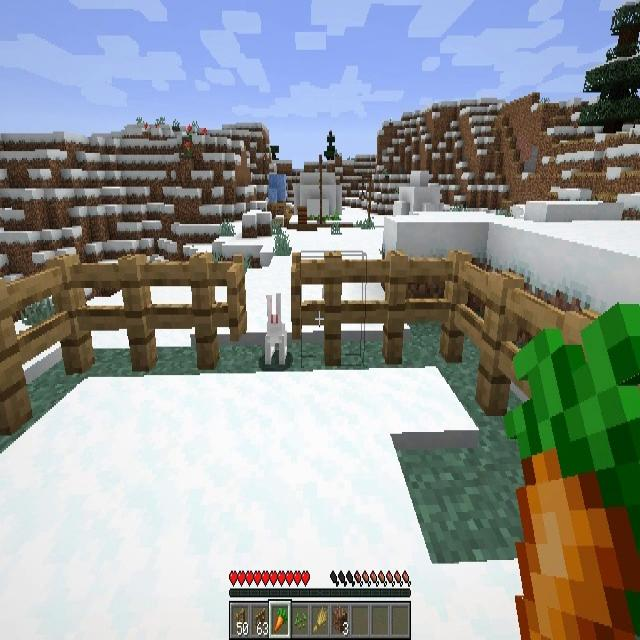rabbit: (265, 295, 289, 366)
